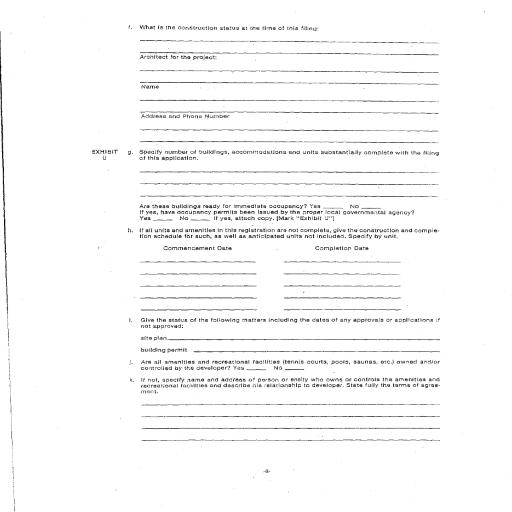check_box: (309, 201, 382, 209)
free_text: (138, 377, 446, 396), (141, 314, 445, 332), (140, 148, 442, 162), (141, 18, 320, 36), (141, 112, 236, 122), (235, 364, 309, 374), (139, 53, 230, 61), (140, 84, 164, 92)
